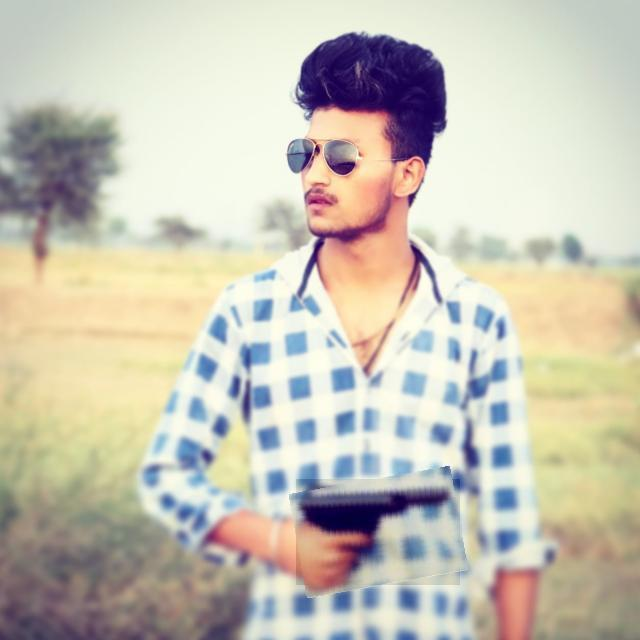handgun: (292, 473, 464, 592)
